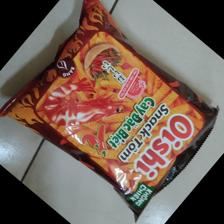Oishi_Cay: (1, 1, 218, 224)
